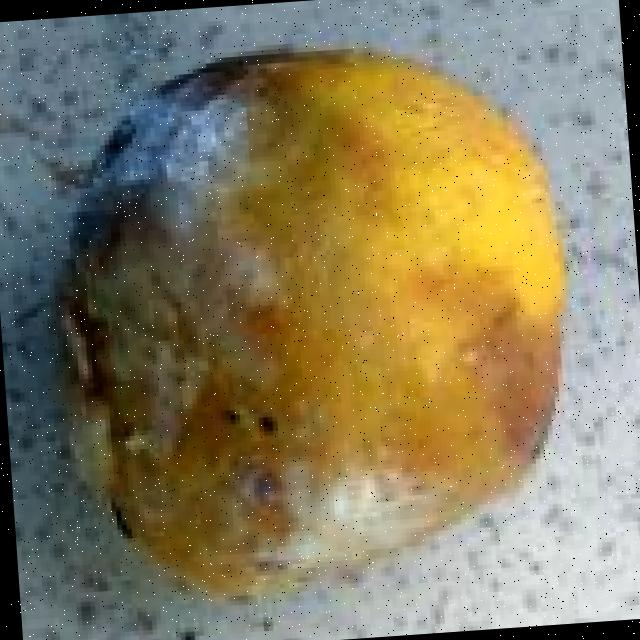Bad_Lime-0-1-day: (48, 43, 566, 602)
